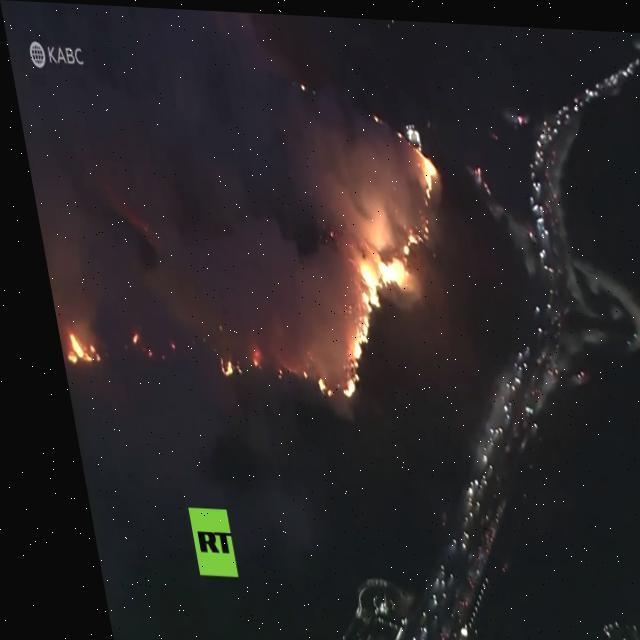Fire: (312, 266, 386, 396), (366, 229, 416, 282), (50, 330, 88, 366), (410, 143, 434, 198), (302, 373, 320, 394), (206, 354, 222, 374), (118, 330, 128, 344)
